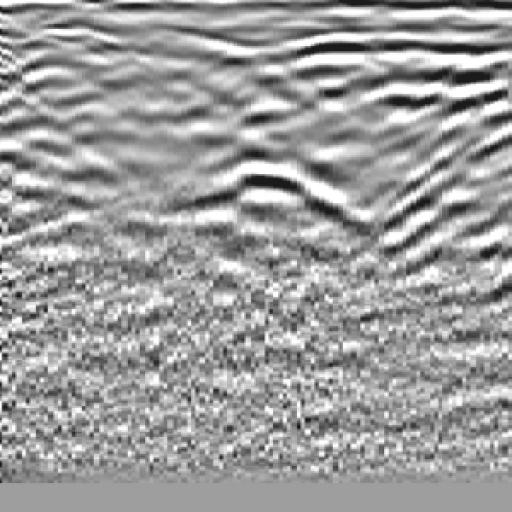metalic: (179, 38, 366, 291)
nonmetalic: (414, 42, 512, 274)
